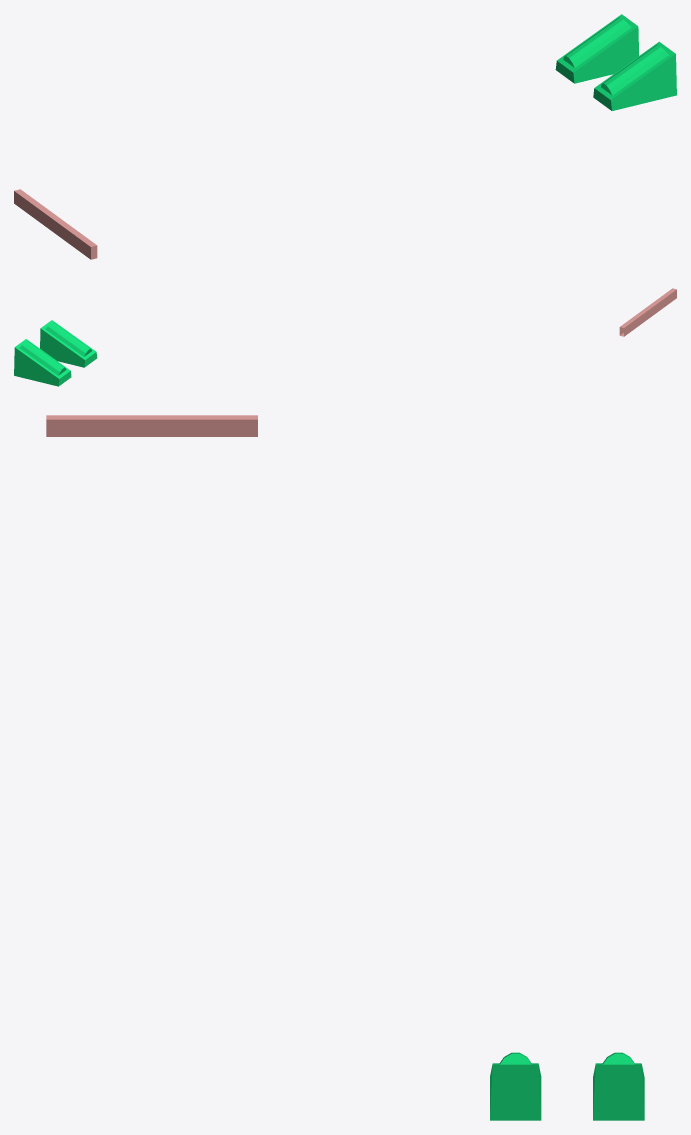
File: Puzzle_001_Details.fbx
The picture shows the model from 3 angles, top to bottom: view 1: azimuth 30°, elevation 25°; view 2: azimuth 150°, elevation 25°; view 3: azimuth 270°, elevation 25°; orthographic projection. The views are drawn at different scales.
Parts seen in each view (by area): view 1: Puzzle_001_Details; view 2: Puzzle_001_Details; view 3: Puzzle_001_Details.
Part boxes in pixels (x1=…): Puzzle_001_Details: x1=14, y1=14, x2=676, y2=259; Puzzle_001_Details: x1=14, y1=288, x2=676, y2=386; Puzzle_001_Details: x1=46, y1=415, x2=644, y2=1120.
Size of the model in its own units: 4600 by 875 by 2320.
